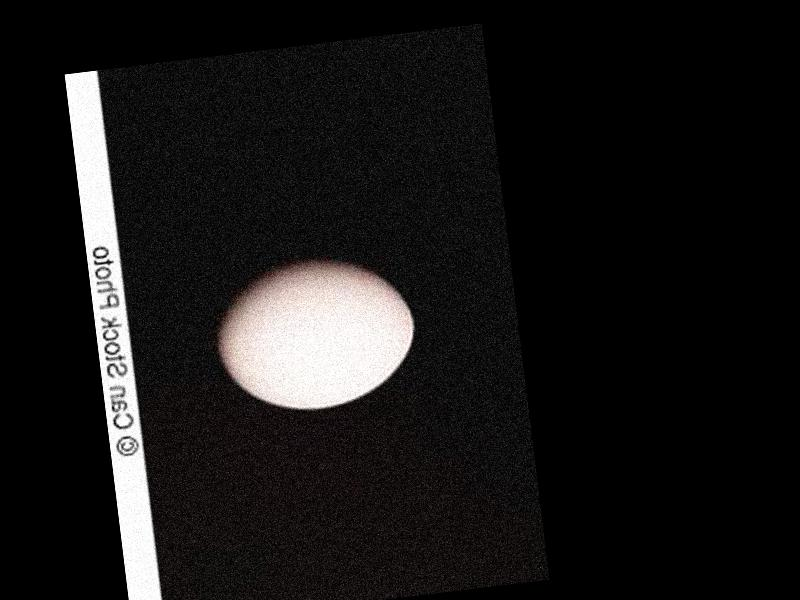Eggs: (206, 250, 422, 420)
